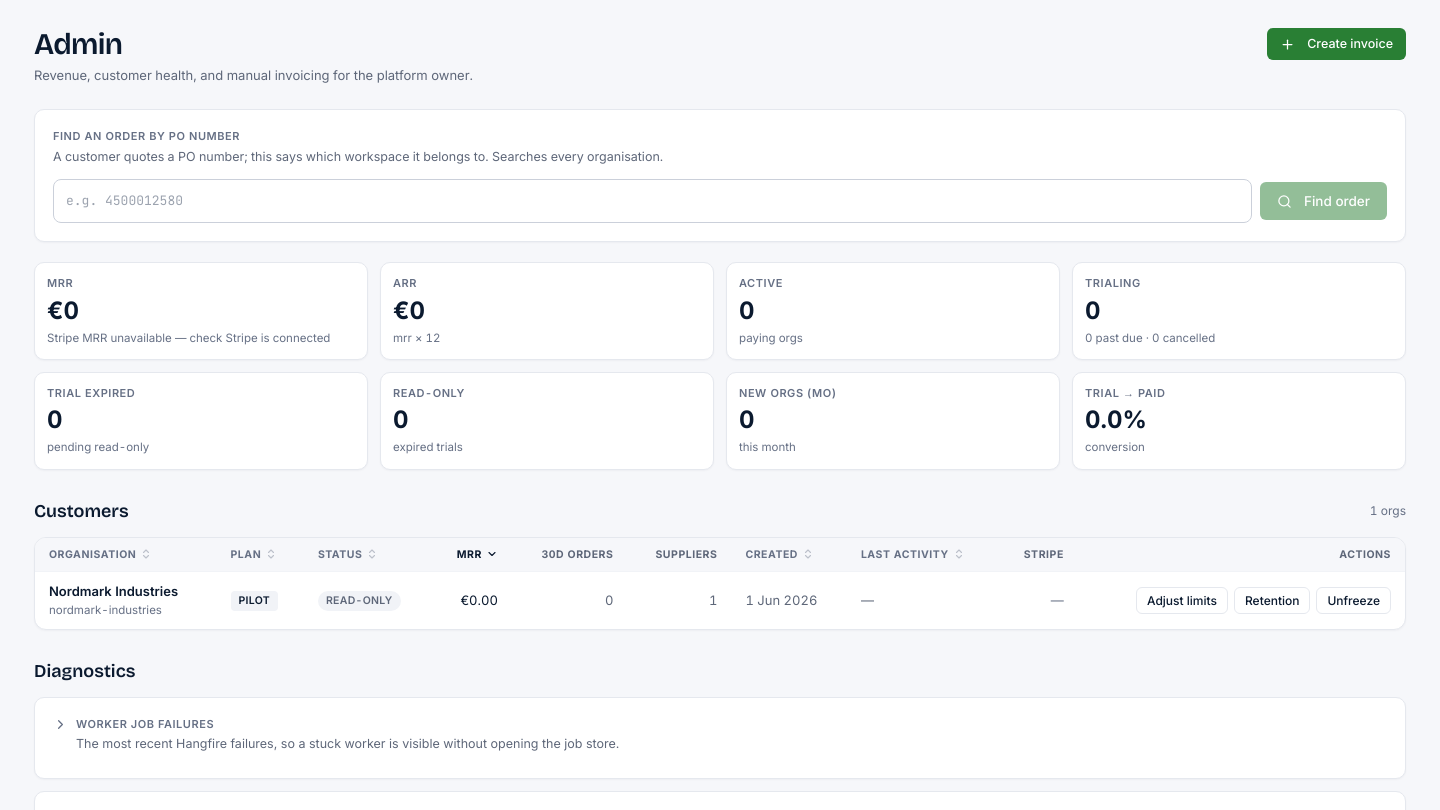
it: admin — un-freezing is confirmed, and its consequence is named › shows the server's refusal sentence rather than a generic failure
Check: the heading "Customers" is shown, box [34,498,129,525]
Click the button "Unfreeze" at (1354,601), box [1316,587,1391,614]
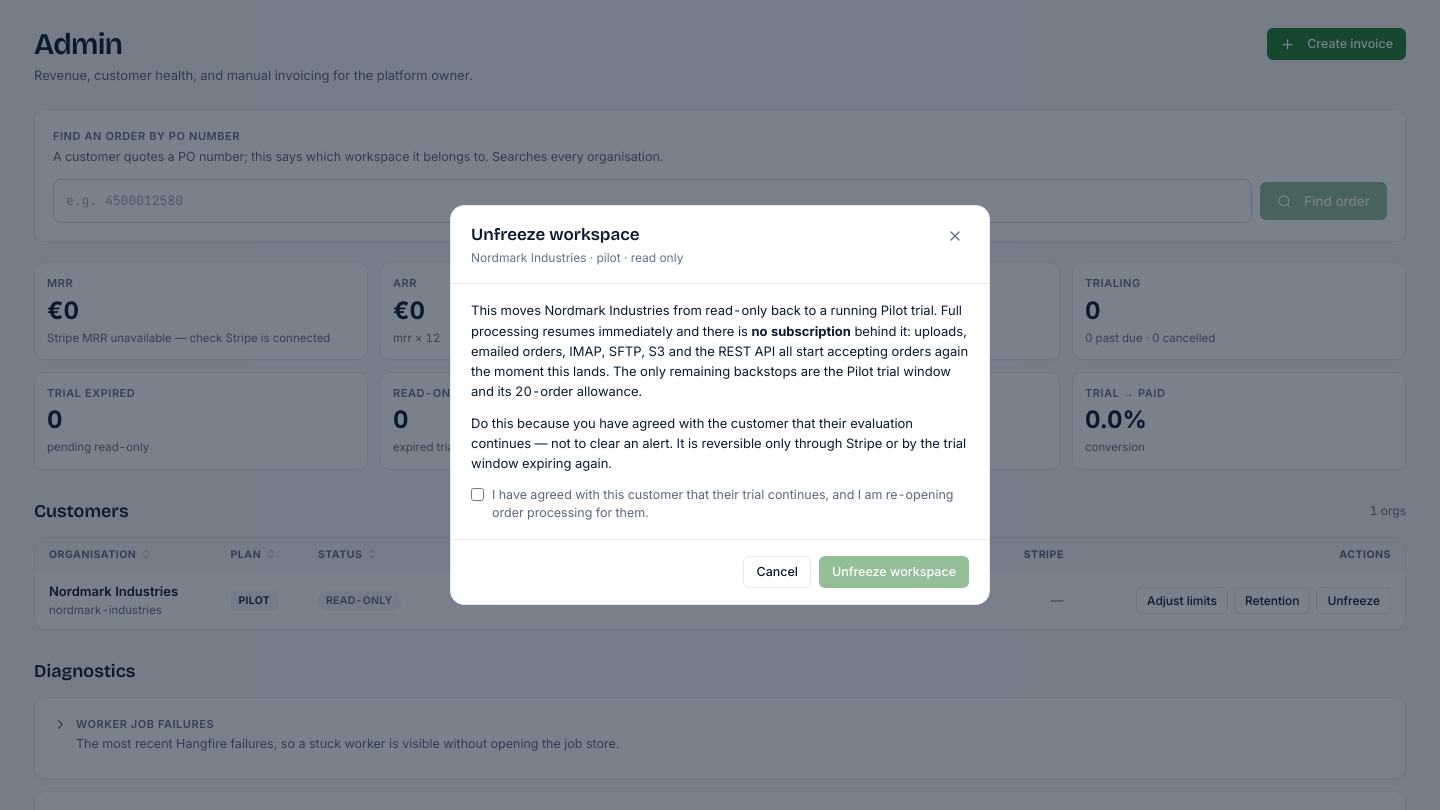
Click the checkbox at (478,494), box [471,488,484,501]
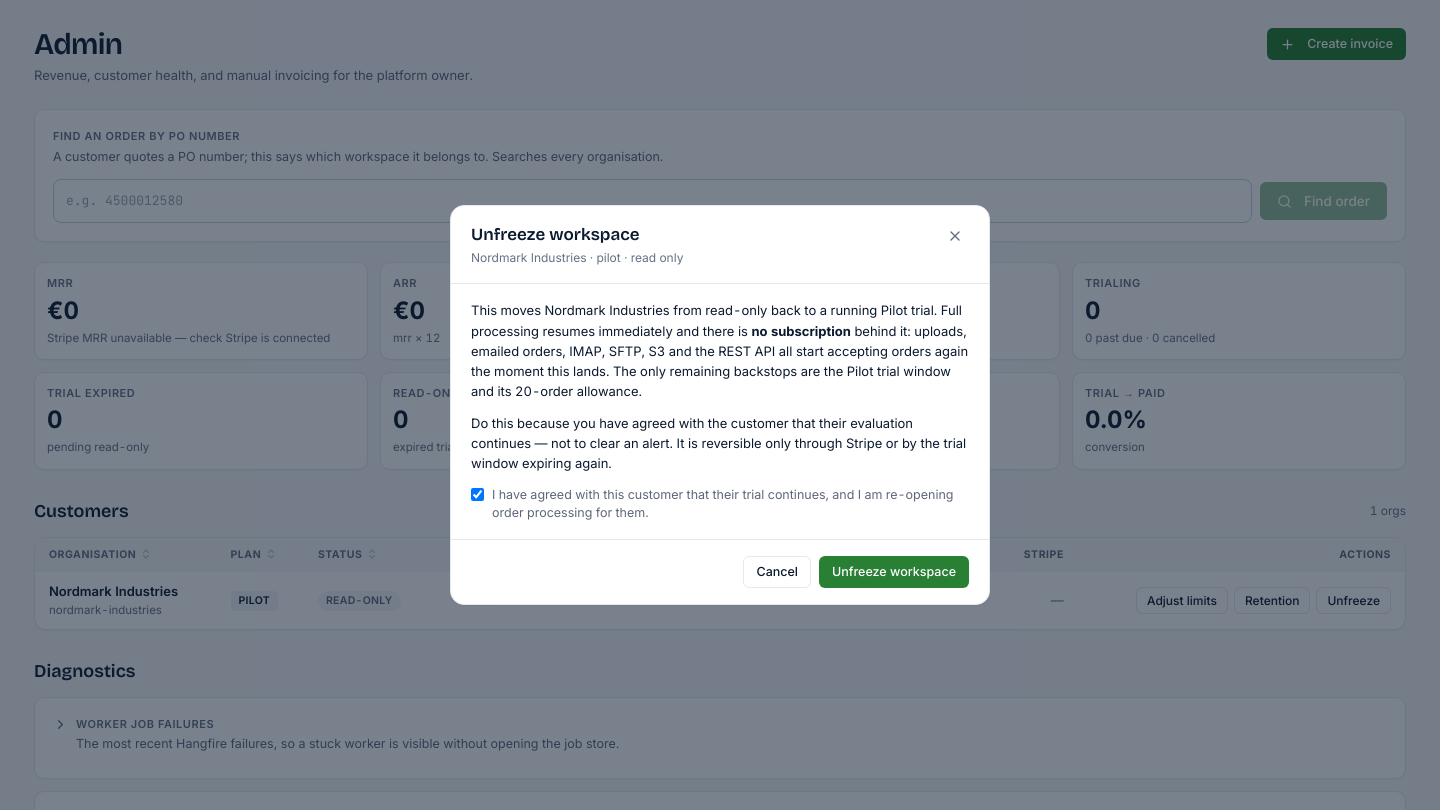
Click the button "Unfreeze workspace" at (894,572), box [819,556,969,588]
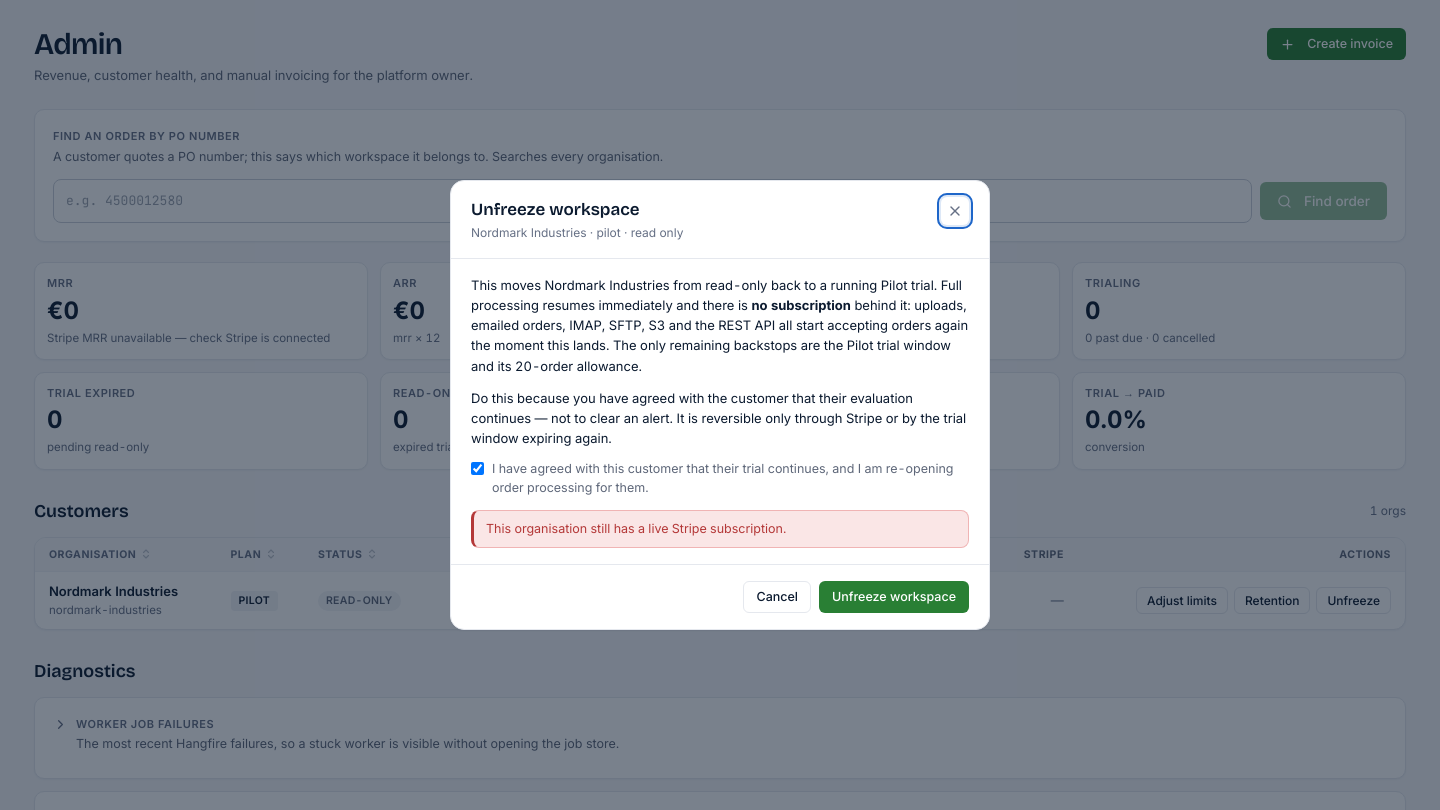
Check: the message reads "This organisation still has a live Stripe subscription.", box [486,521,786,536]
